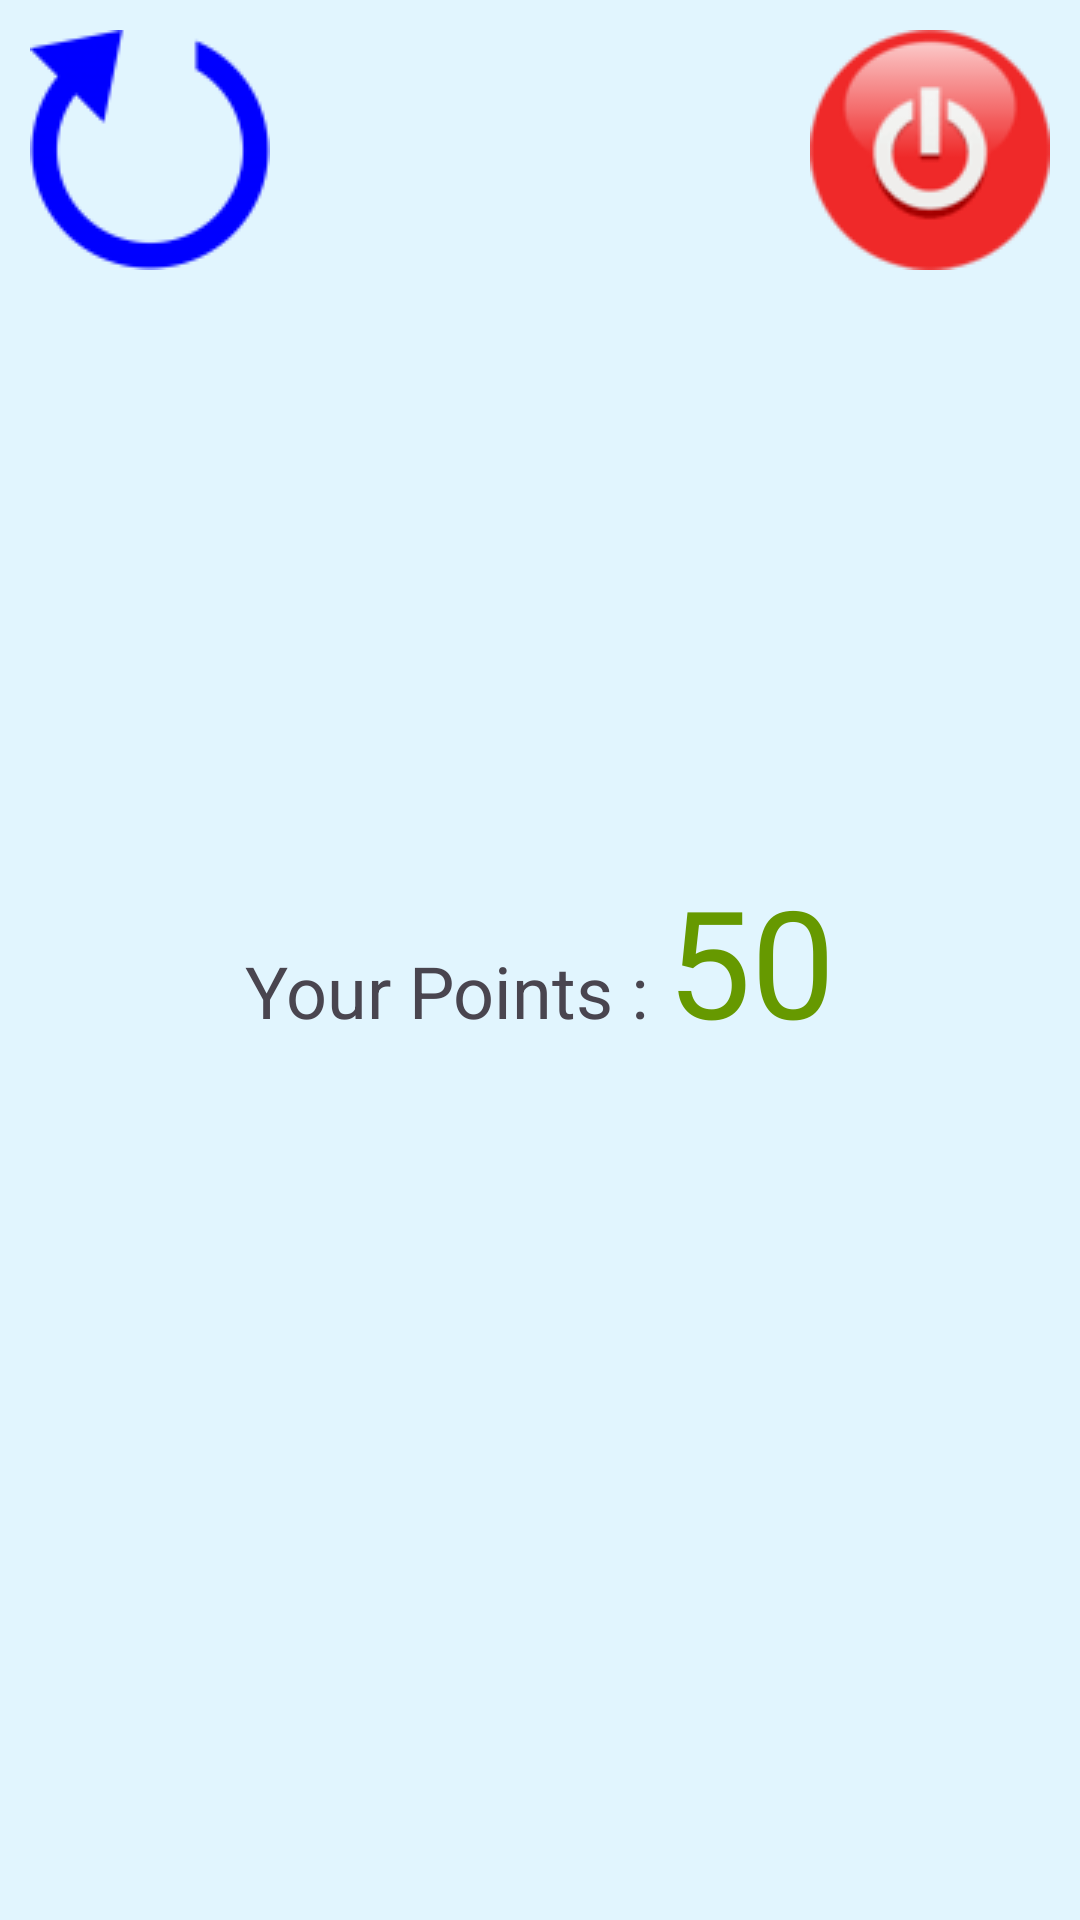

Where icons sit on this 1080w x 1920h app screen, as (x1, y1, x2, y2):
exit: (810, 30, 1050, 270)
restart: (30, 30, 270, 270)
